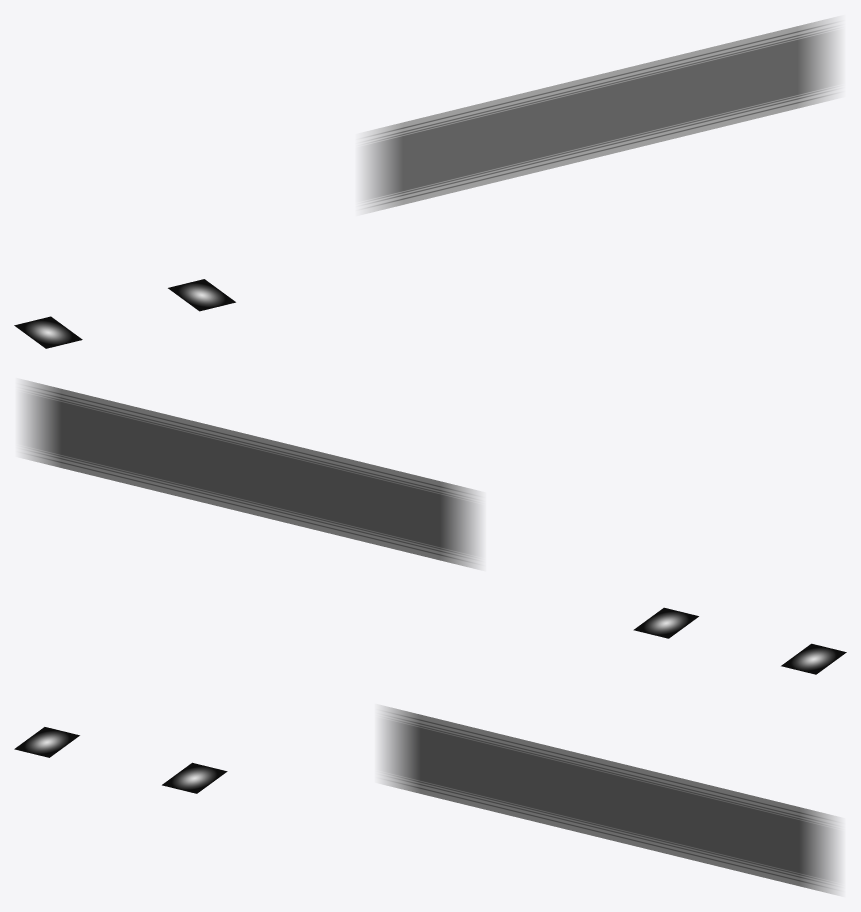
The model's file is all_tie__tie.glb.
3 views of the same model, one above another, from view 1: azimuth 30°, elevation 25°; view 2: azimuth 150°, elevation 25°; view 3: azimuth 330°, elevation 25° (orthographic). The views are drawn at different scales.
Parts seen in each view (by area): view 1: polygon0, polygon1, polygon3; view 2: polygon0, polygon1, polygon3; view 3: polygon0, polygon1, polygon3.
Boxes of the visible parts, x1,y1,x2,y2 form: polygon0: (361,16,839,214); polygon1: (14,316,82,348); polygon3: (168,279,235,311); polygon0: (21,379,480,569); polygon1: (781,643,846,674); polygon3: (633,607,698,638); polygon0: (380,705,839,895); polygon1: (14,727,79,757); polygon3: (162,762,227,793).
Size of what is drawn, in the model's own units: 84.56 by 10.38 by 5.81.
2 materials, 2 textured.
